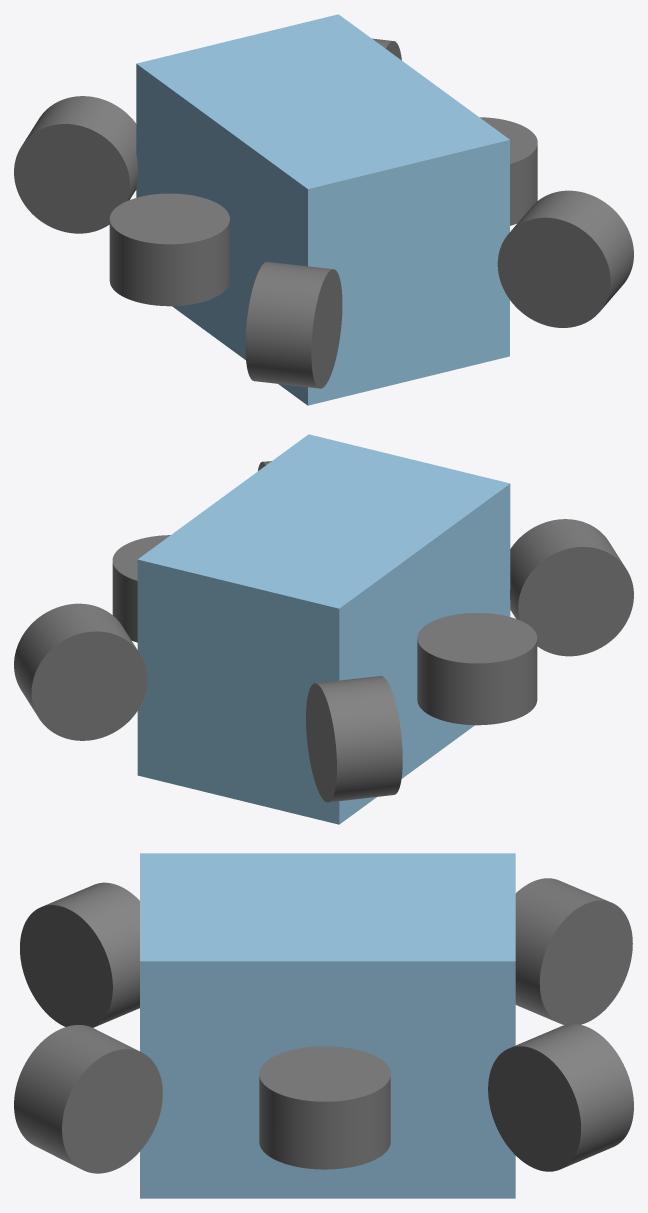
Rendered from nautilus_sim.dae.
The picture shows the model from 3 angles, top to bottom: view 1: azimuth 30°, elevation 25°; view 2: azimuth 150°, elevation 25°; view 3: azimuth 270°, elevation 25°; orthographic projection. The views are drawn at different scales.
Parts seen in each view (by area): view 1: Body, Propeller (×5); view 2: Body, Propeller (×5); view 3: Body, Propeller (×5).
Part boxes in pixels (box(x1,y1,x2,y2)): Body: box(136, 14, 509, 405); Propeller (×5): box(14, 96, 633, 388); Body: box(137, 434, 510, 824); Propeller (×5): box(14, 519, 633, 802); Body: box(140, 853, 515, 1198); Propeller (×5): box(14, 878, 633, 1173).
Size of the model in its own units: 0.6948 by 0.8293 by 0.35.
